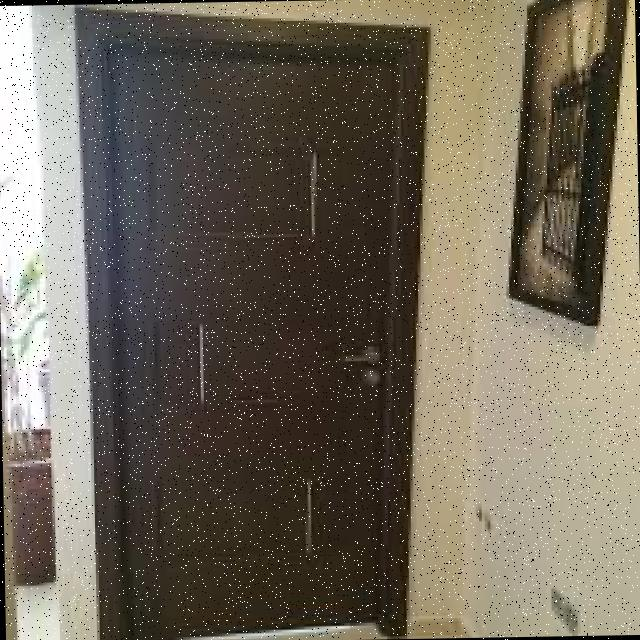Door: (94, 19, 424, 640)
